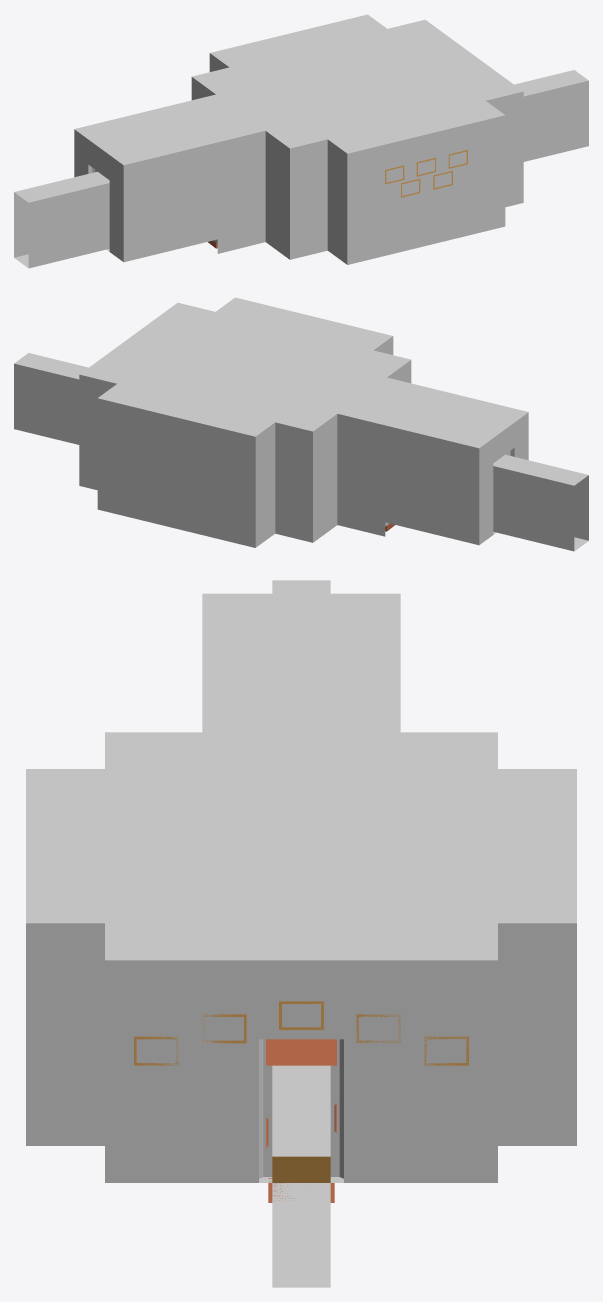
Rendered from 1stRoom.fbx.
The picture shows the model from 3 angles, top to bottom: view 1: azimuth 30°, elevation 25°; view 2: azimuth 150°, elevation 25°; view 3: azimuth 270°, elevation 25°; orthographic projection. The views are drawn at different scales.
Visible parts, largest first — view 1: Cube.001; view 2: Cube.001; view 3: Cube.001, Cube, Cube.015.
Part boxes in pixels (left/top/right/bottom): Cube.001: left=14, top=14, right=588, bottom=268; Cube.001: left=14, top=297, right=588, bottom=551; Cube.001: left=26, top=580, right=576, bottom=1287; Cube: left=266, top=1039, right=336, bottom=1202; Cube.015: left=272, top=1156, right=330, bottom=1182.
Size of the model in its own units: 1820 by 346 by 774.
